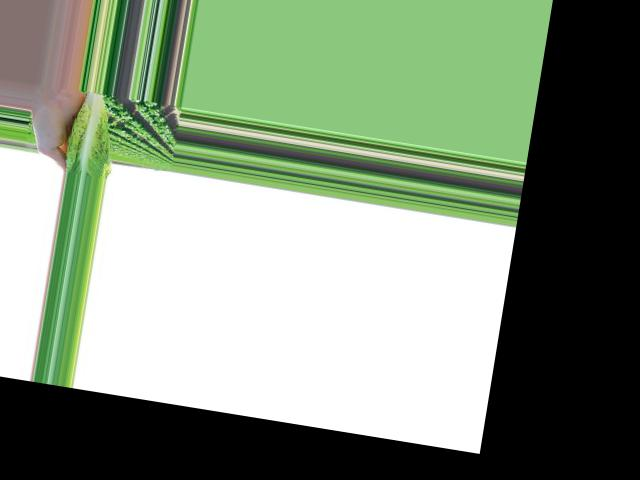lettuce: (64, 88, 120, 176)
